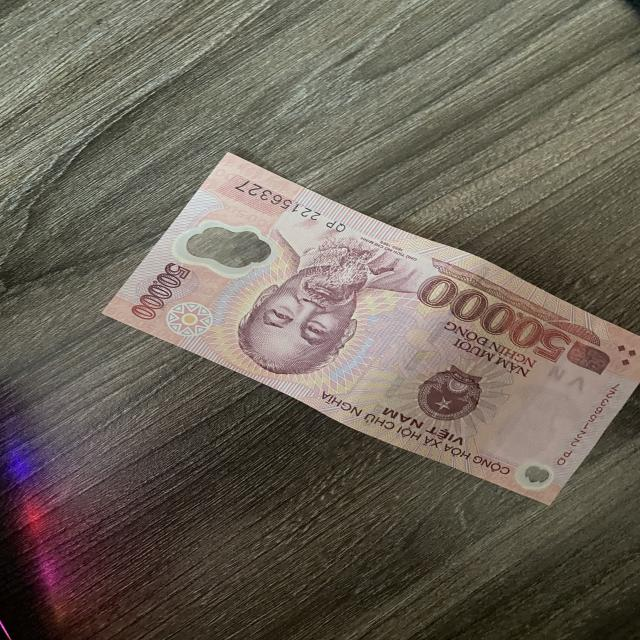50 000 VND: (100, 152, 637, 507)
